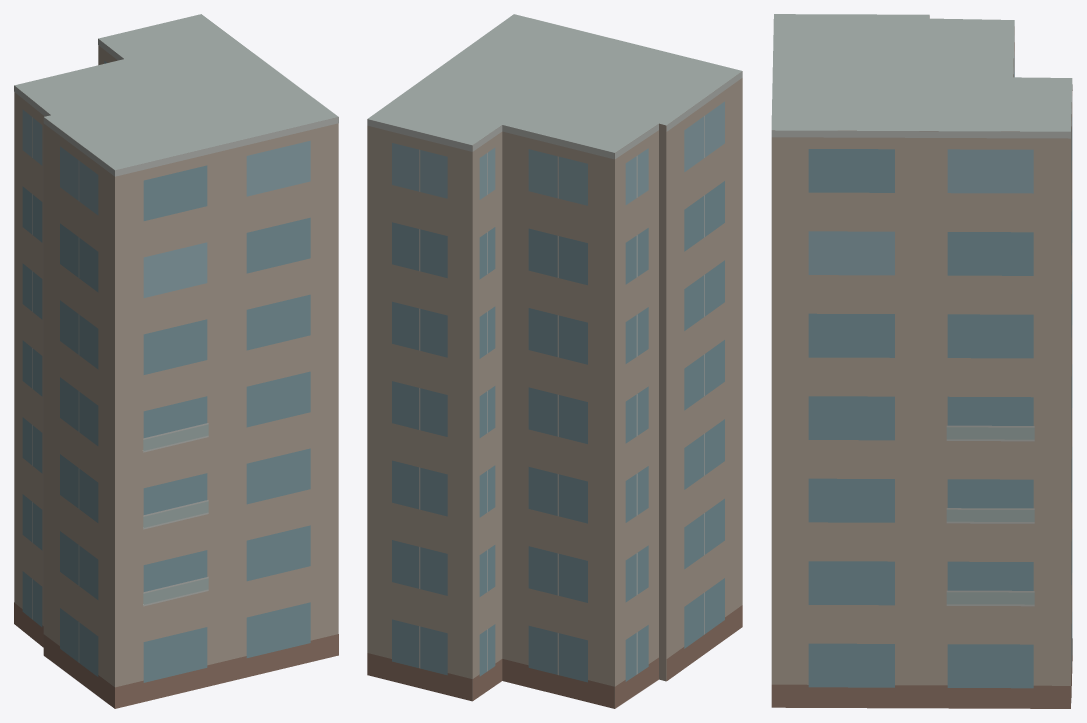
Rendered from survey-upis-32959401.glb.
3 views of the same model, side by side, from view 1: azimuth 30°, elevation 25°; view 2: azimuth 150°, elevation 25°; view 3: azimuth 270°, elevation 25° (orthographic). The views are drawn at different scales.
Visible parts, largest first — view 1: survey-upis-32959401.tmp; view 2: survey-upis-32959401.tmp; view 3: survey-upis-32959401.tmp.
Part boxes in pixels (bbox=[...]): survey-upis-32959401.tmp: bbox=[14, 14, 338, 708]; survey-upis-32959401.tmp: bbox=[367, 14, 742, 708]; survey-upis-32959401.tmp: bbox=[771, 14, 1072, 708].
Bounding box in the file's own units: 9.04 × 20.6 × 9.75.
